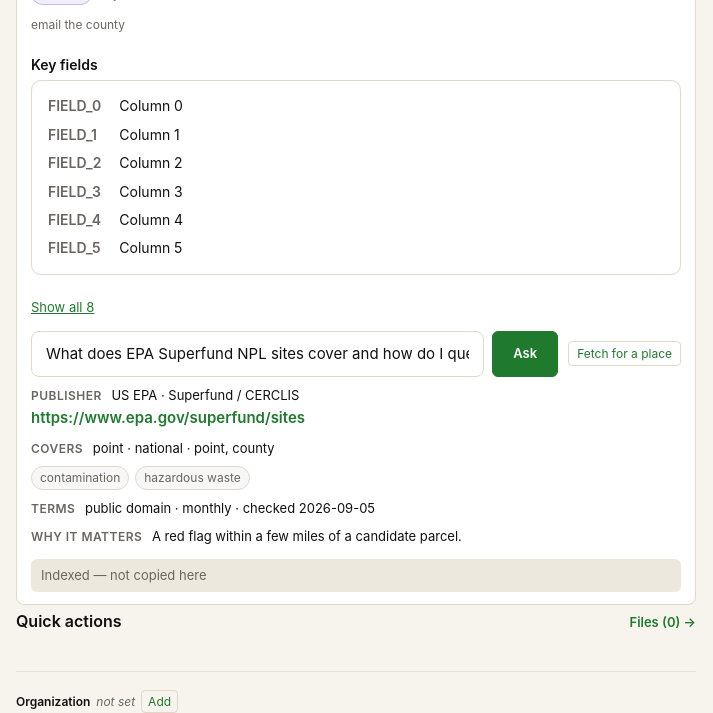
Test: LibraryEntryView Source block (P5-56) › offers Ask about this source, prefilled, and gates Fetch for a place on an adapter
(page scrolled)
Expected: the field with test id "ask-input" holds "What does EPA Superfund NPL sites cover and how do I query it for a place?", [31,331,484,377]
Click the button with test id "fetch-for-place" at (625, 354), box [568,341,681,366]
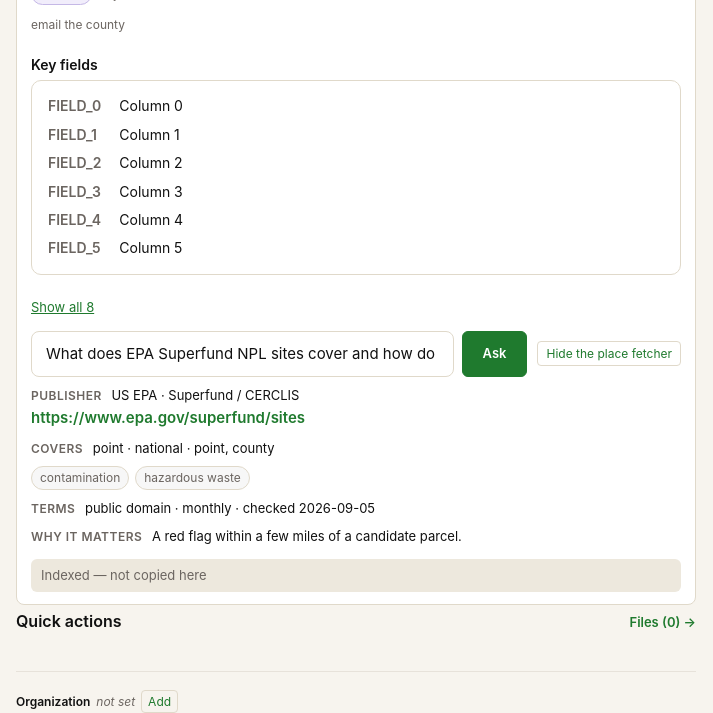
Result: the button with test id "fetch-for-place" reads "Hide the place fetcher" at [538,341,681,366]
